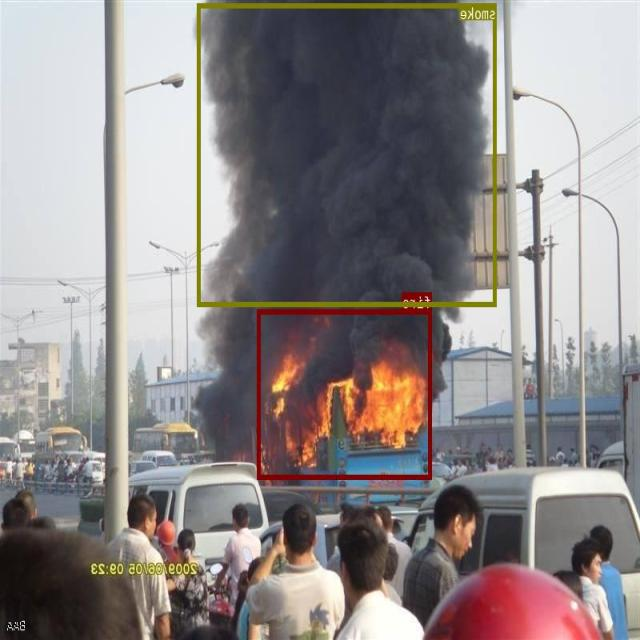fire: (258, 309, 432, 478)
smoke: (198, 2, 497, 306)
